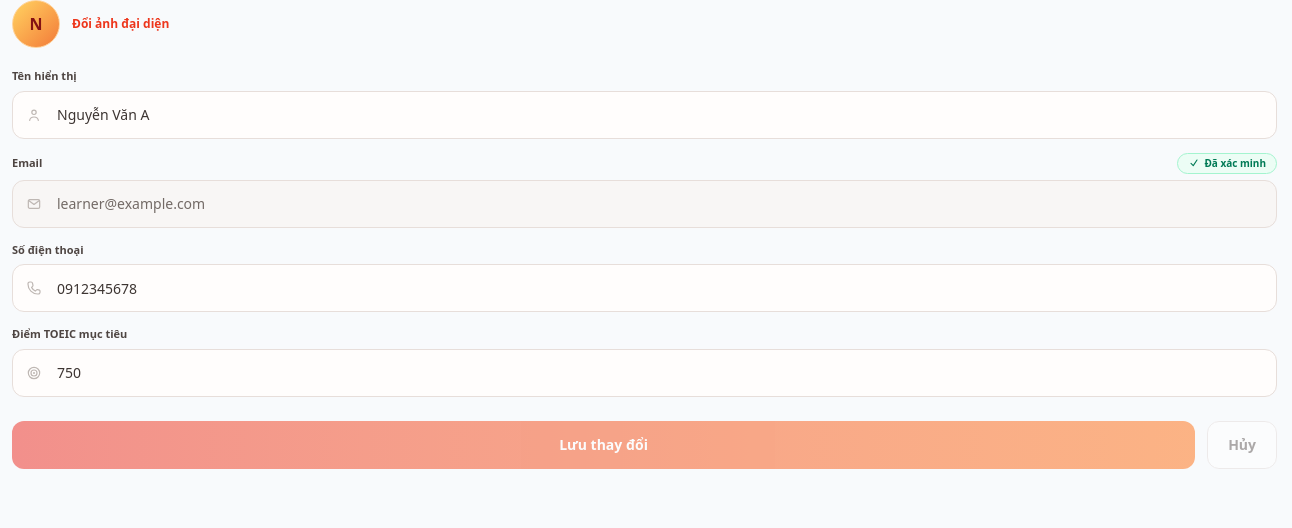
ProfileForm › không gửi khi validation FE thất bại và gán lỗi 400 vào đúng ô
This screenshot has width=1292, height=528.
Clear the field labelled "Tên hiển thị": (644, 114) x1=12 y1=90 x2=1277 y2=138
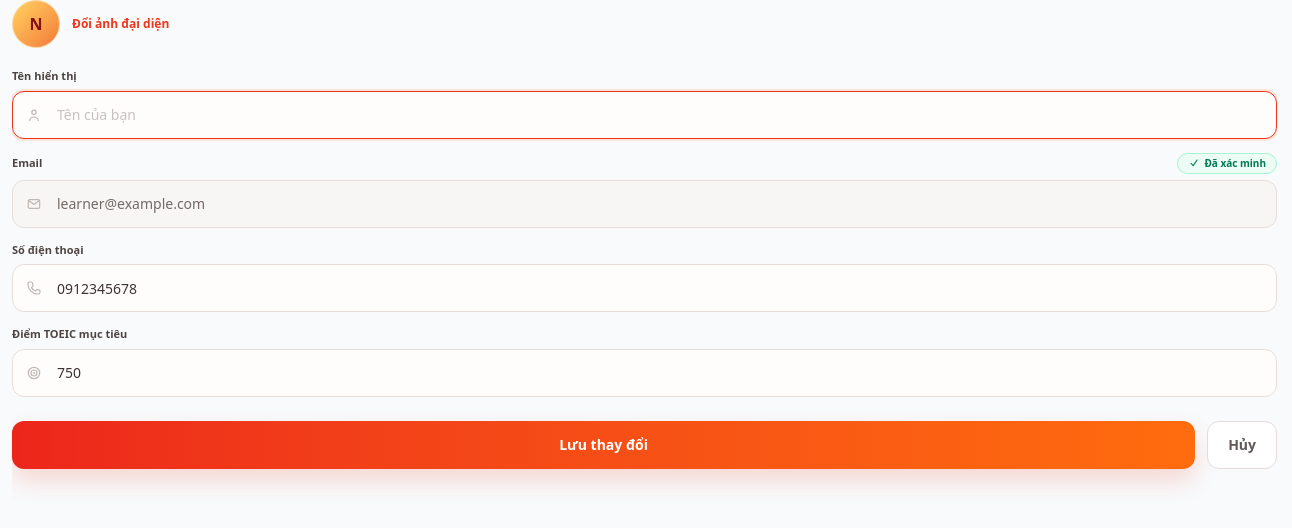
Click the button "Lưu thay đổi": (604, 444) x1=12 y1=420 x2=1195 y2=468
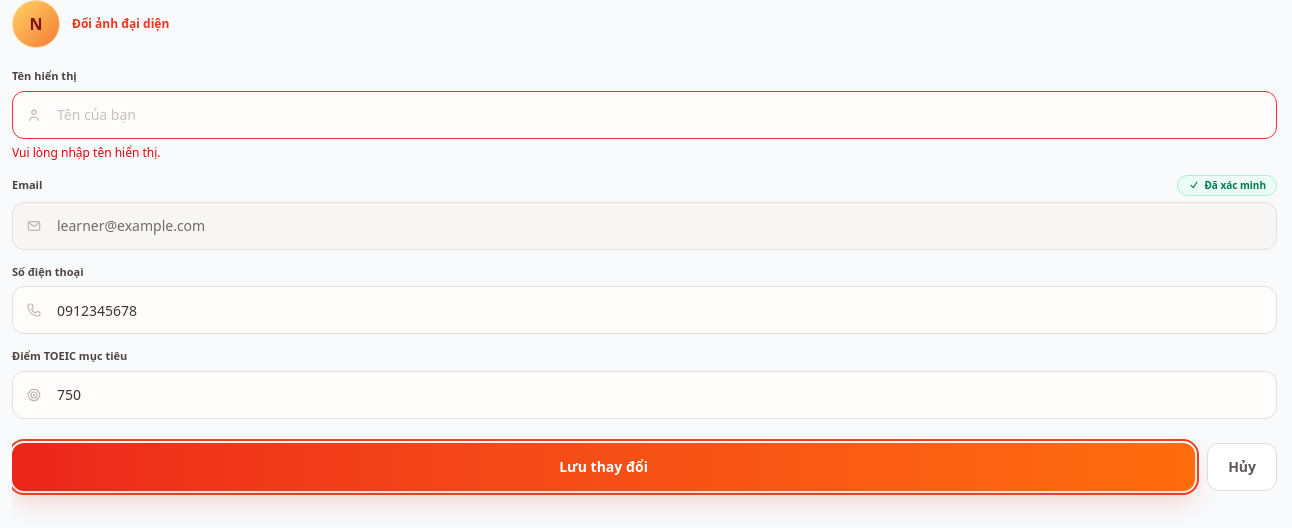
Check: the text "Vui lòng nhập tên hiển thị." is shown, box x1=12 y1=144 x2=161 y2=160
In the field labelled "Tên hiển thị": (644, 114) x1=12 y1=90 x2=1277 y2=138, type "Linh B"
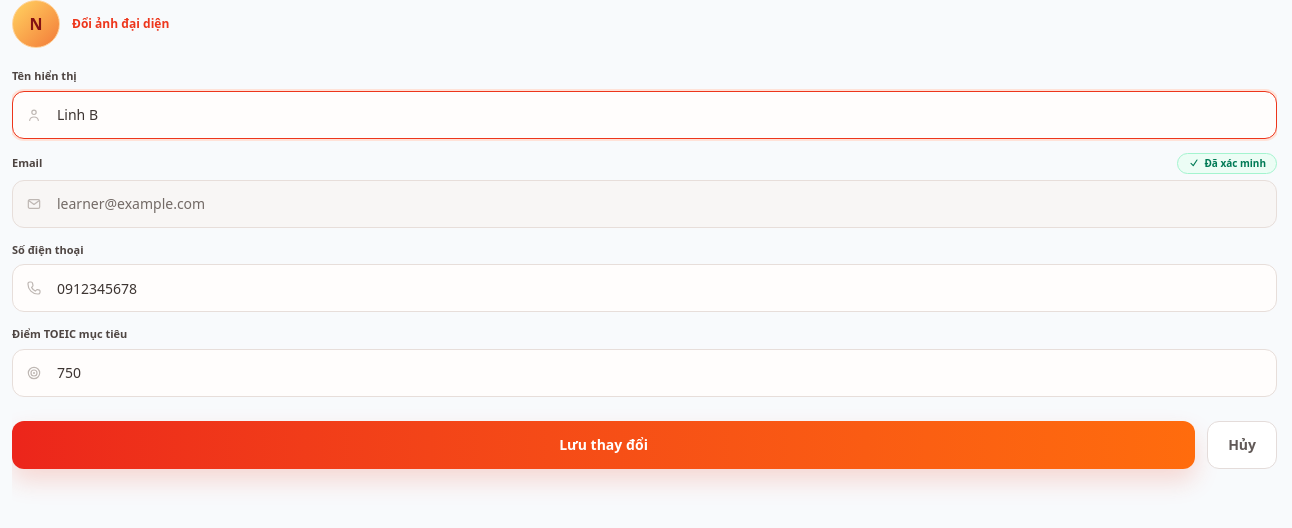
Click the button "Lưu thay đổi": (604, 444) x1=12 y1=420 x2=1195 y2=468
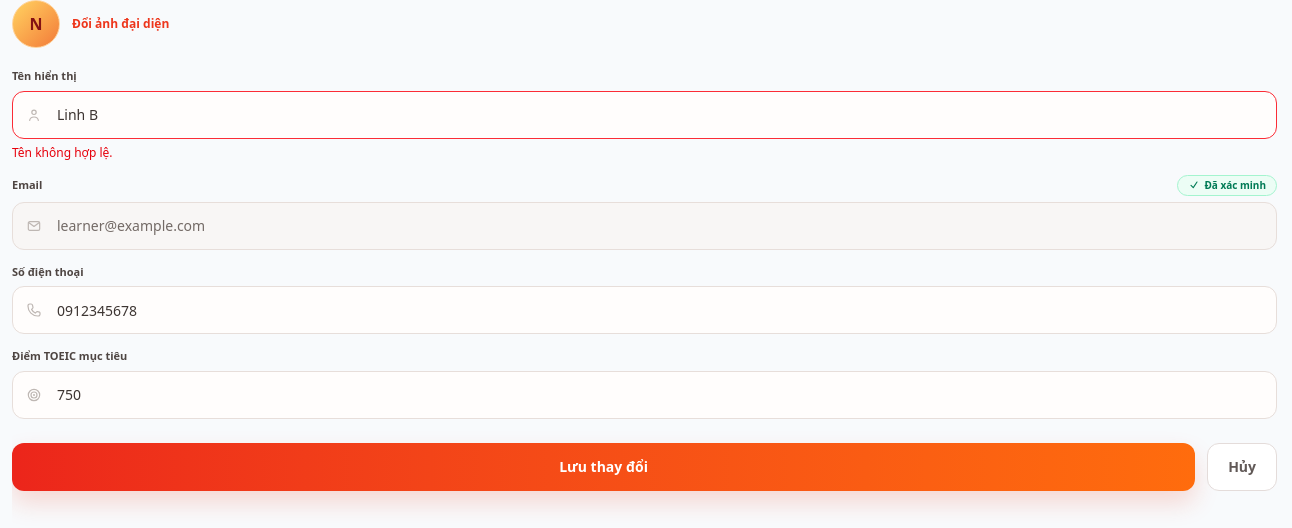
Check: the text "Tên không hợp lệ." is shown, box x1=12 y1=144 x2=112 y2=160
